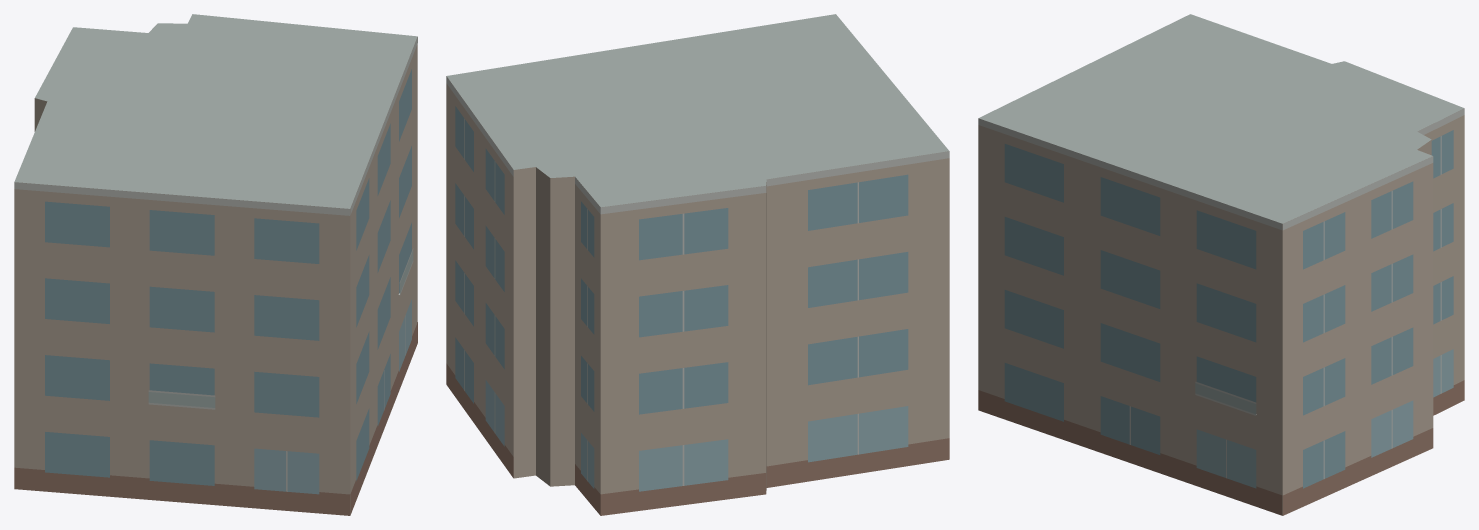
File: survey-upis-32687940.glb
The picture shows the model from 3 angles, left to right: view 1: azimuth 30°, elevation 25°; view 2: azimuth 150°, elevation 25°; view 3: azimuth 270°, elevation 25°; orthographic projection. The views are drawn at different scales.
Visible parts, largest first — view 1: survey-upis-32687940.tmp; view 2: survey-upis-32687940.tmp; view 3: survey-upis-32687940.tmp.
Part boxes in pixels (x1=…): survey-upis-32687940.tmp: x1=14, y1=14, x2=417, y2=515; survey-upis-32687940.tmp: x1=446, y1=14, x2=949, y2=515; survey-upis-32687940.tmp: x1=978, y1=14, x2=1464, y2=515.
Size of the model in its own units: 16.5 by 10.7 by 16.16.
